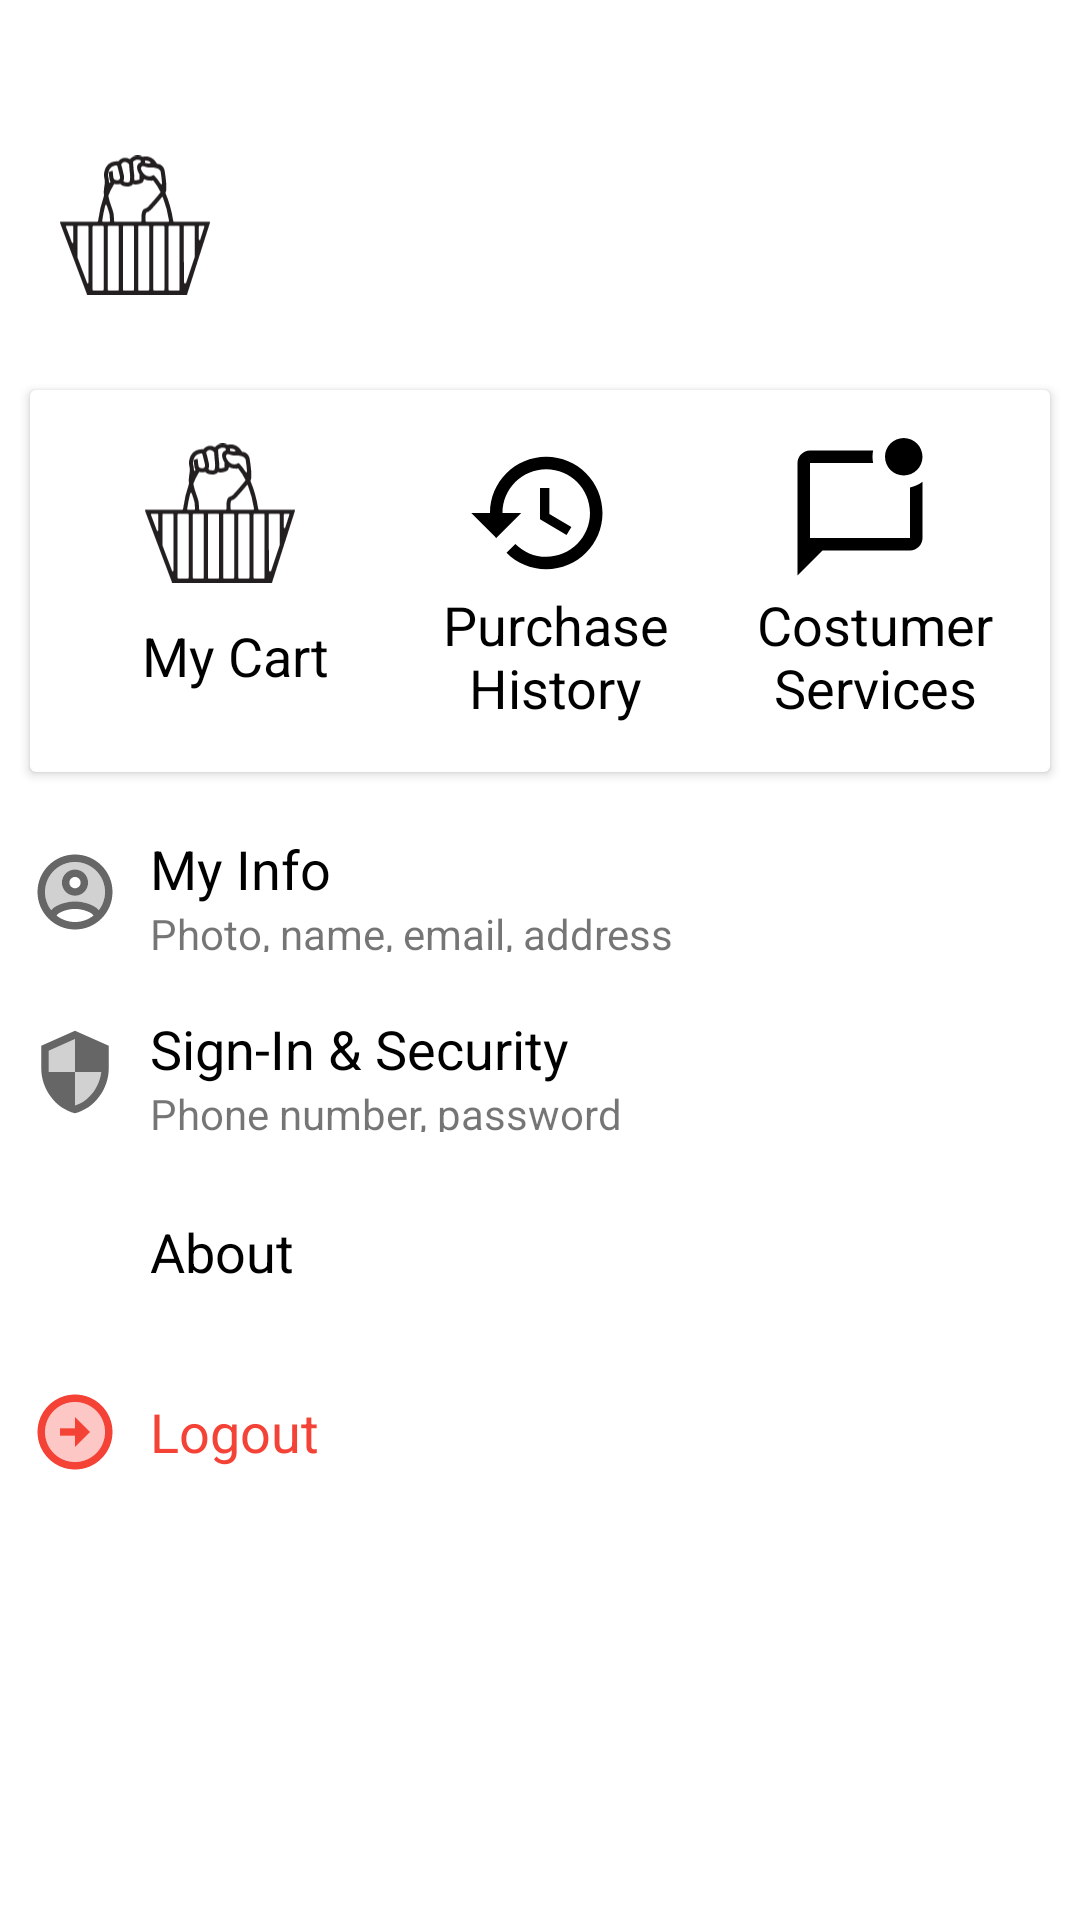

Named icons in this screenshot (1080x1920) and their centers, [x,y]:
account: [75,892]
arrow: [75,1432]
chat: [860,507]
